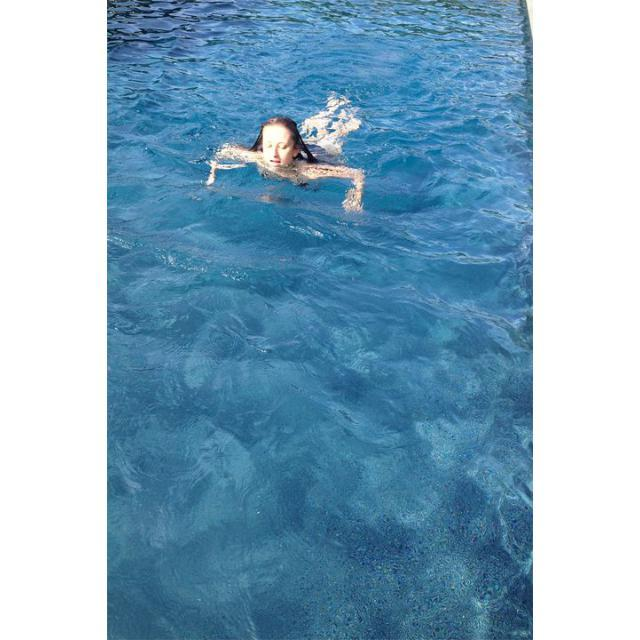human: (210, 93, 364, 221)
